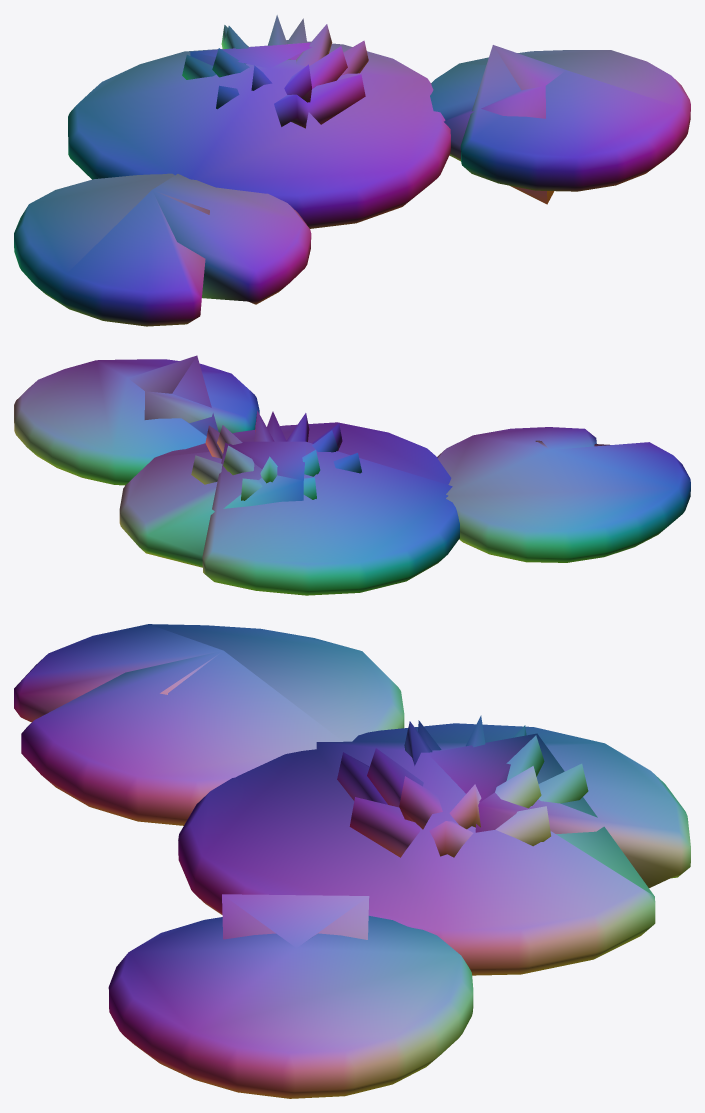
The model's file is SM_Foliage_Plains_LilyPad_B.fbx.
The picture shows the model from 3 angles, top to bottom: view 1: azimuth 30°, elevation 25°; view 2: azimuth 150°, elevation 25°; view 3: azimuth 270°, elevation 25°; orthographic projection. The views are drawn at different scales.
Visible parts, largest first — view 1: SM_Foliage_Plains_LilyPad_B; view 2: SM_Foliage_Plains_LilyPad_B; view 3: SM_Foliage_Plains_LilyPad_B.
Boxes of the visible parts, x1,y1,x2,y2 form: SM_Foliage_Plains_LilyPad_B: (14, 15, 690, 326); SM_Foliage_Plains_LilyPad_B: (14, 355, 690, 595); SM_Foliage_Plains_LilyPad_B: (14, 624, 690, 1098).
Bounding box in the file's own units: 0.6921 × 0.1447 × 0.4516.
